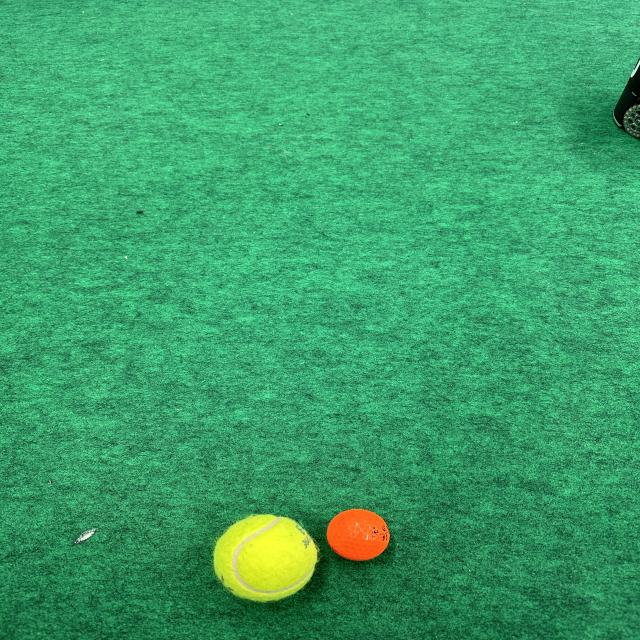ball: (325, 508, 392, 562)
